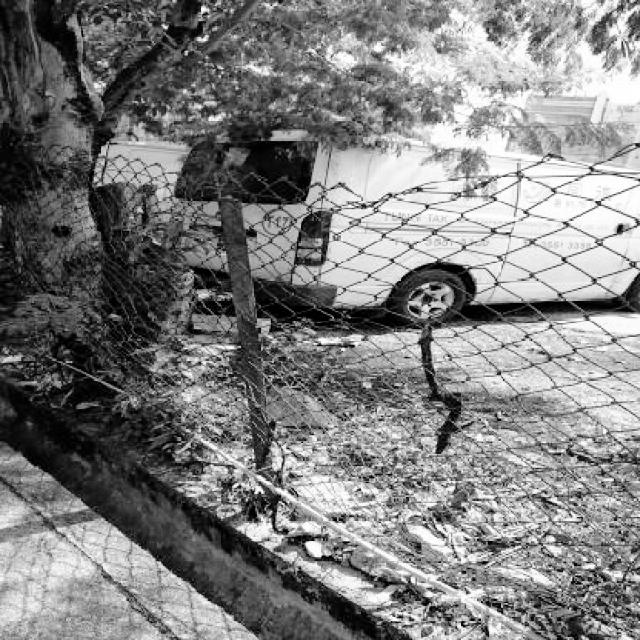anomaly-fence: (4, 112, 640, 258)
